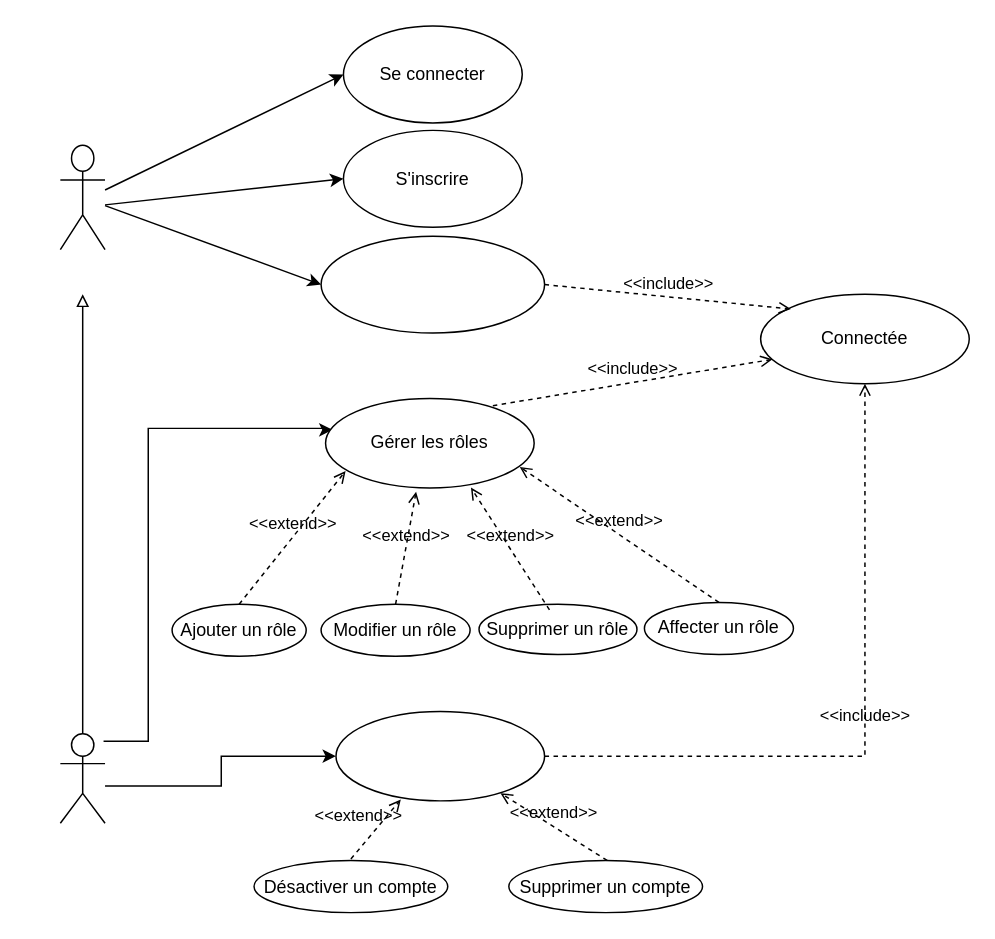
The diagram is 995 pixels wide and 939 high, and some of its shapes have lost their labels. Here are the shapes that lost their labels. From the top down, the box of each, then its label:
(59, 144, 105, 250): Utilisateur
(320, 235, 545, 333): Récupérer mot de passe
(335, 710, 545, 801): Gérer les utilisateurs
(59, 732, 105, 823): Administrateur
